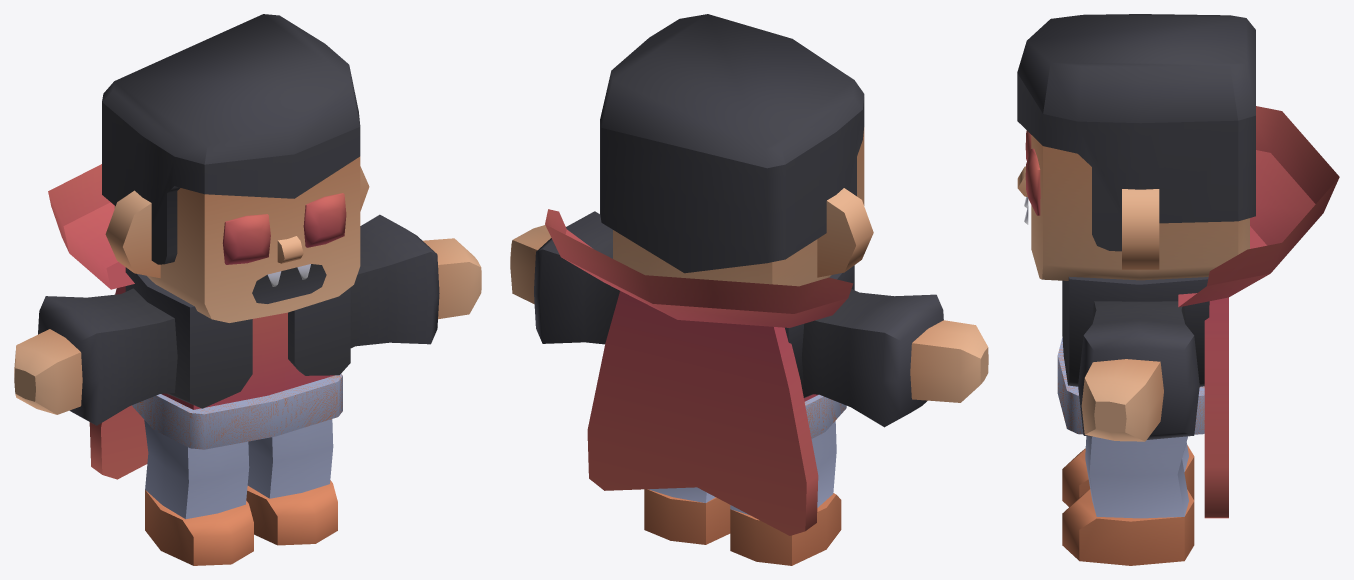
Rendered from cc0-vampire-lod0.glb.
The picture shows the model from 3 angles, left to right: view 1: azimuth 30°, elevation 25°; view 2: azimuth 150°, elevation 25°; view 3: azimuth 270°, elevation 25°; orthographic projection. The views are drawn at different scales.
Visible parts, largest first — view 1: part_4, part_1, part_2, part_3, part_5, part_6; view 2: part_4, part_1, part_2, part_3, part_5, part_6; view 3: part_4, part_1, part_3, part_6, part_5.
Boxes of the visible parts, <box> form: part_4: <box>102,14,369,322</box>; part_1: <box>48,164,350,479</box>; part_2: <box>14,288,177,425</box>; part_3: <box>350,214,481,348</box>; part_5: <box>144,420,253,565</box>; part_6: <box>246,419,337,545</box>; part_4: <box>600,14,873,286</box>; part_1: <box>545,209,854,535</box>; part_2: <box>802,289,988,427</box>; part_3: <box>510,211,619,344</box>; part_5: <box>730,421,841,565</box>; part_6: <box>644,487,730,544</box>; part_4: <box>1017,14,1255,280</box>; part_1: <box>1057,106,1339,518</box>; part_3: <box>1078,301,1199,441</box>; part_6: <box>1062,436,1194,565</box>; part_5: <box>1062,442,1194,506</box>.
Bounding box in the file's own units: 0.8114 × 0.7805 × 0.4546.
Materials: 1 (1 with a texture image).
